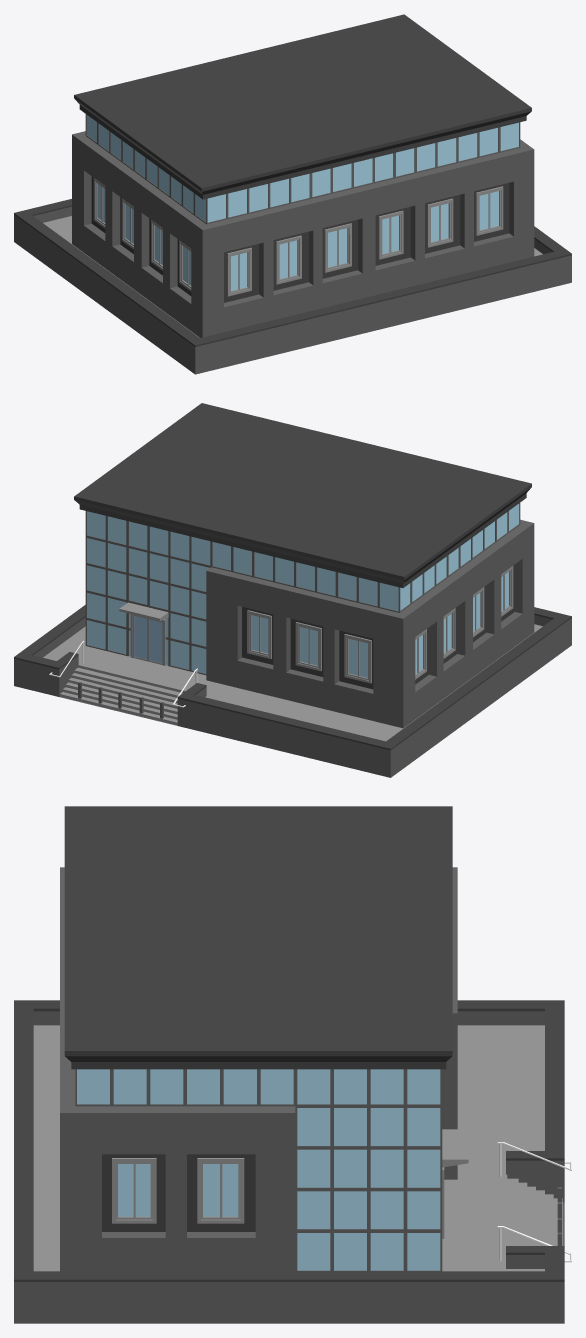
Rendered from office.glb.
3 views of the same model, one above another, from view 1: azimuth 30°, elevation 25°; view 2: azimuth 150°, elevation 25°; view 3: azimuth 270°, elevation 25° (orthographic). The views are drawn at different scales.
Parts seen in each view (by area): view 1: office; view 2: office; view 3: office.
Boxes of the visible parts, <box> form: office: <box>14,14,571,374</box>; office: <box>14,403,571,777</box>; office: <box>14,806,571,1323</box>.
Size of the model in its own units: 17.41 by 7.43 by 14.7.
Materials: 1 (1 with a texture image).
